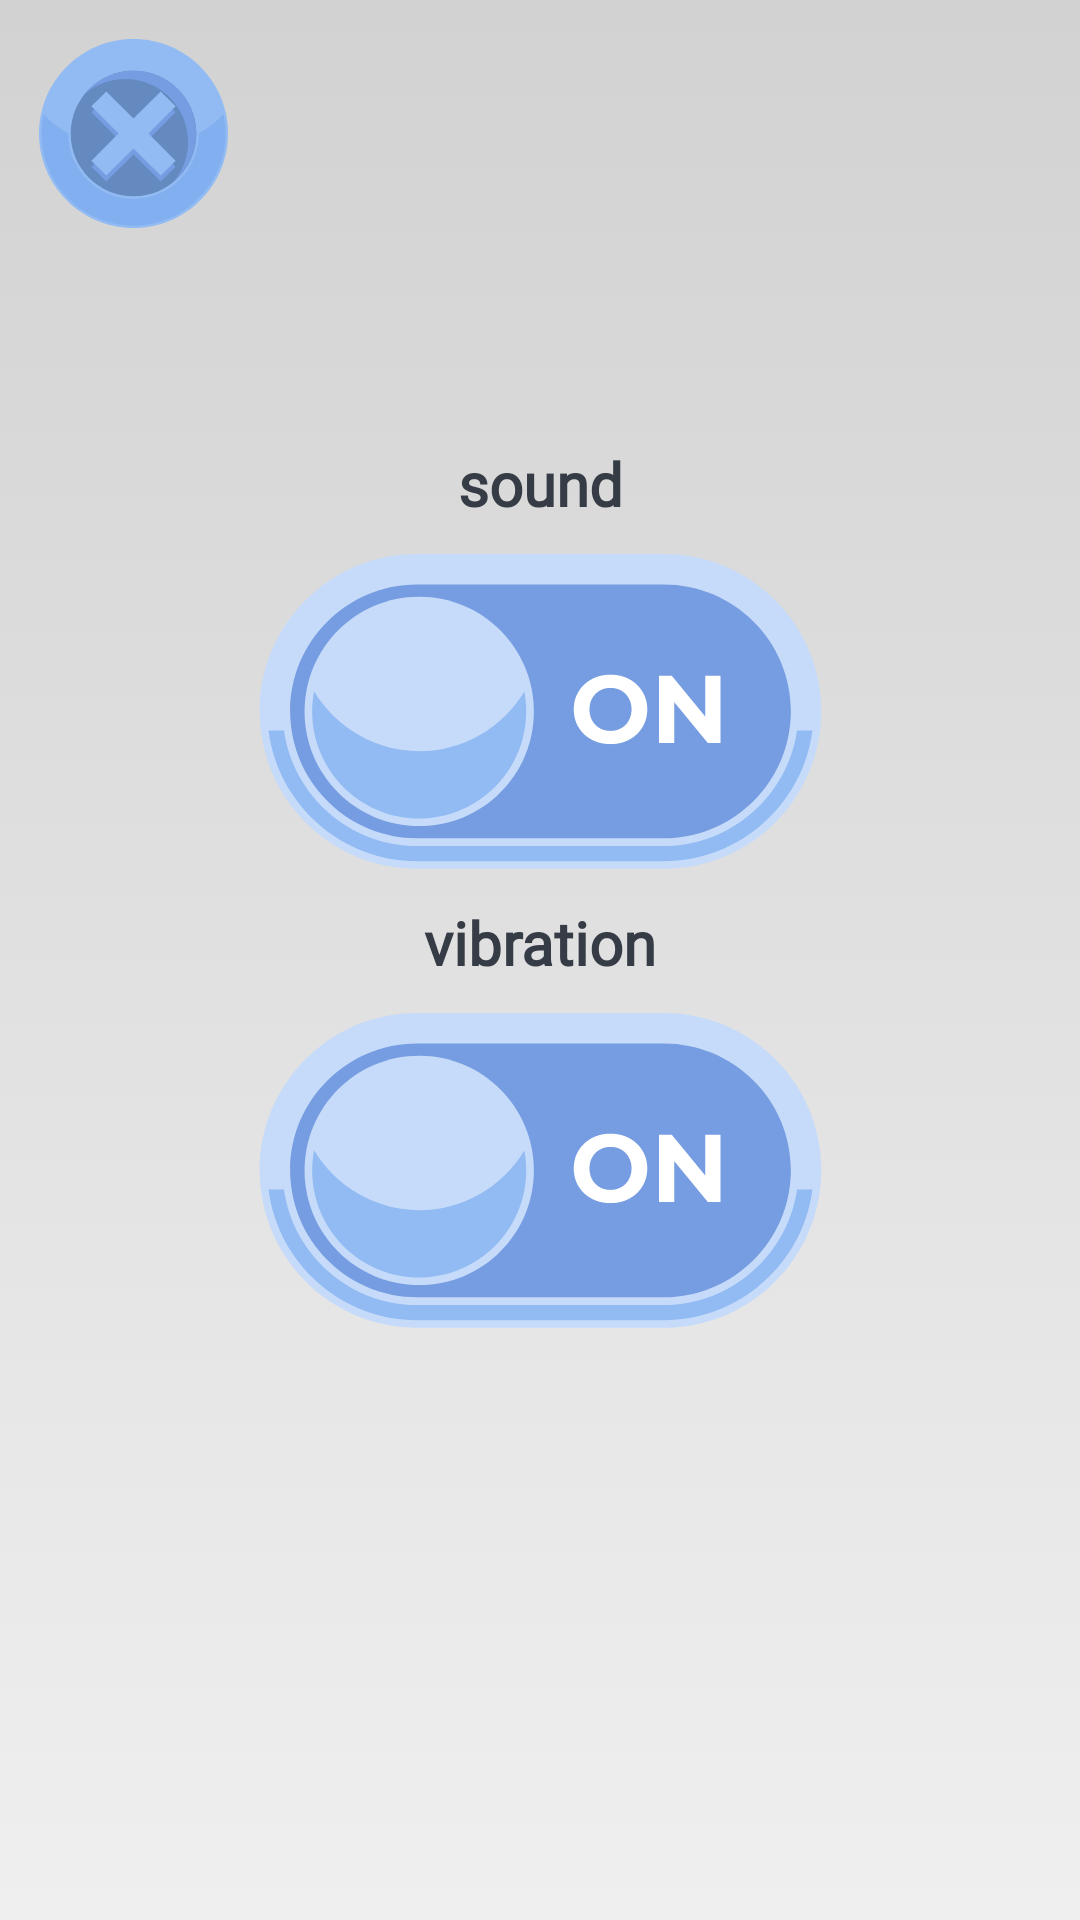

Screen size 1080w x 1920h. Icon name, then its center in pixels as (x=x, y=y):
close: (x=133, y=133)
